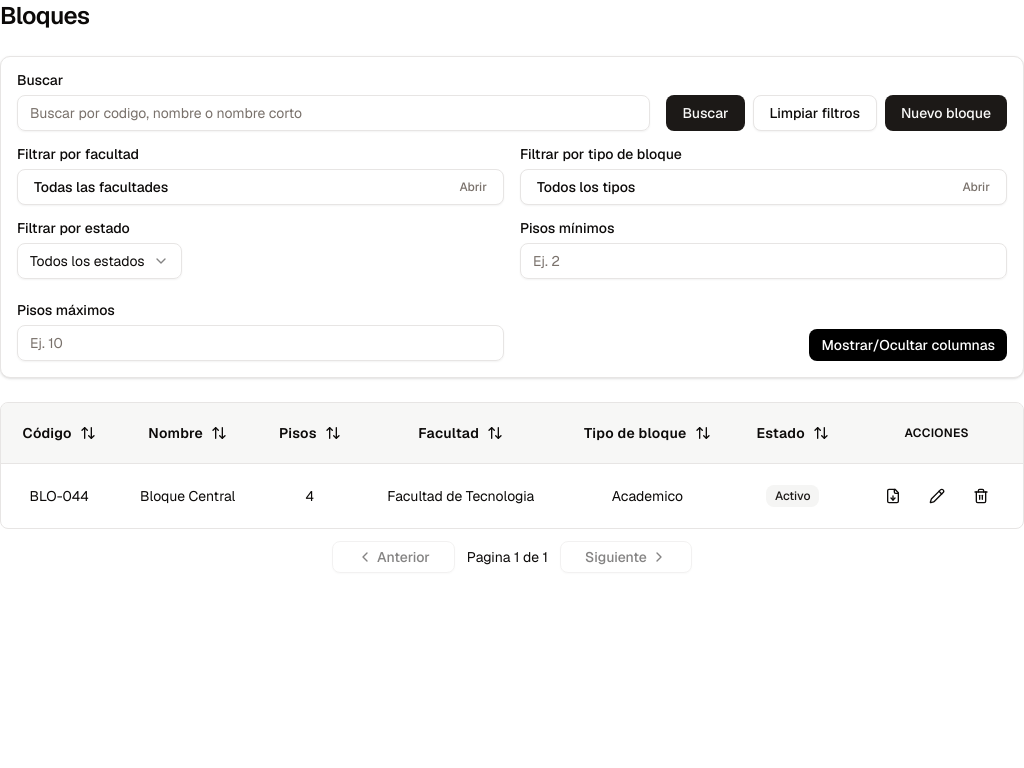
Test: BlockListPage › elimina el bloque, refresca la tabla y muestra un toast de exito
Check: the text "Bloque Central" is shown, box [133, 486, 242, 506]
Click the button titled "eliminar bloque".
click(981, 496)  # box [963, 478, 999, 514]
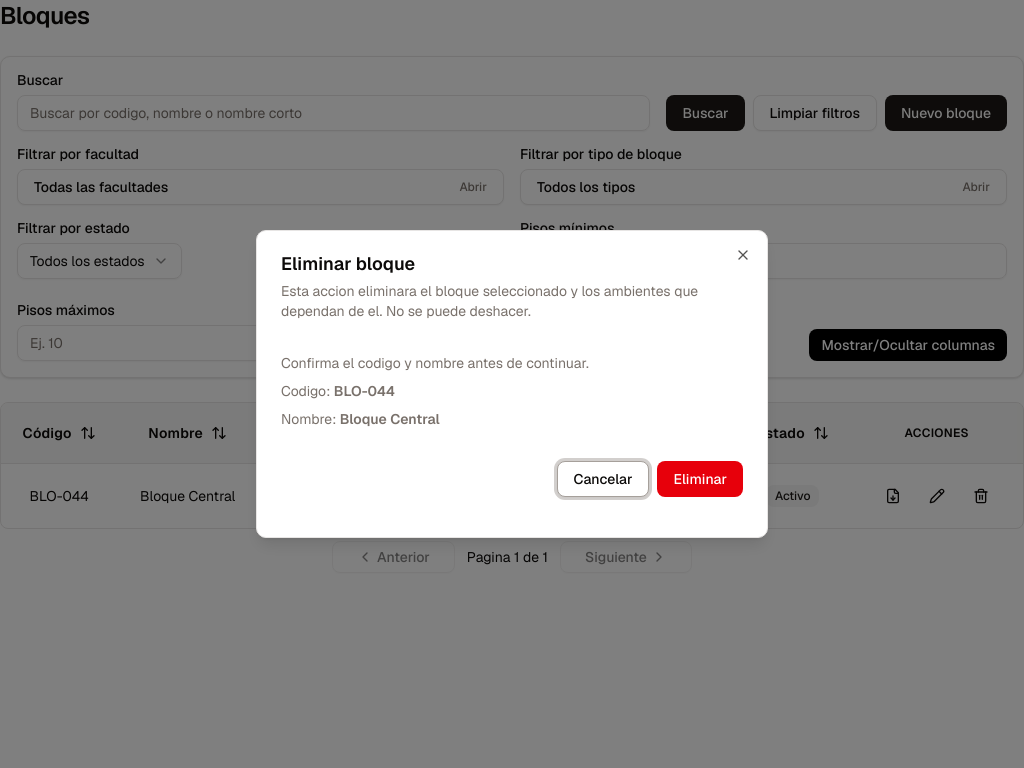
Click the button "Eliminar".
click(700, 479)  # box [658, 461, 743, 497]
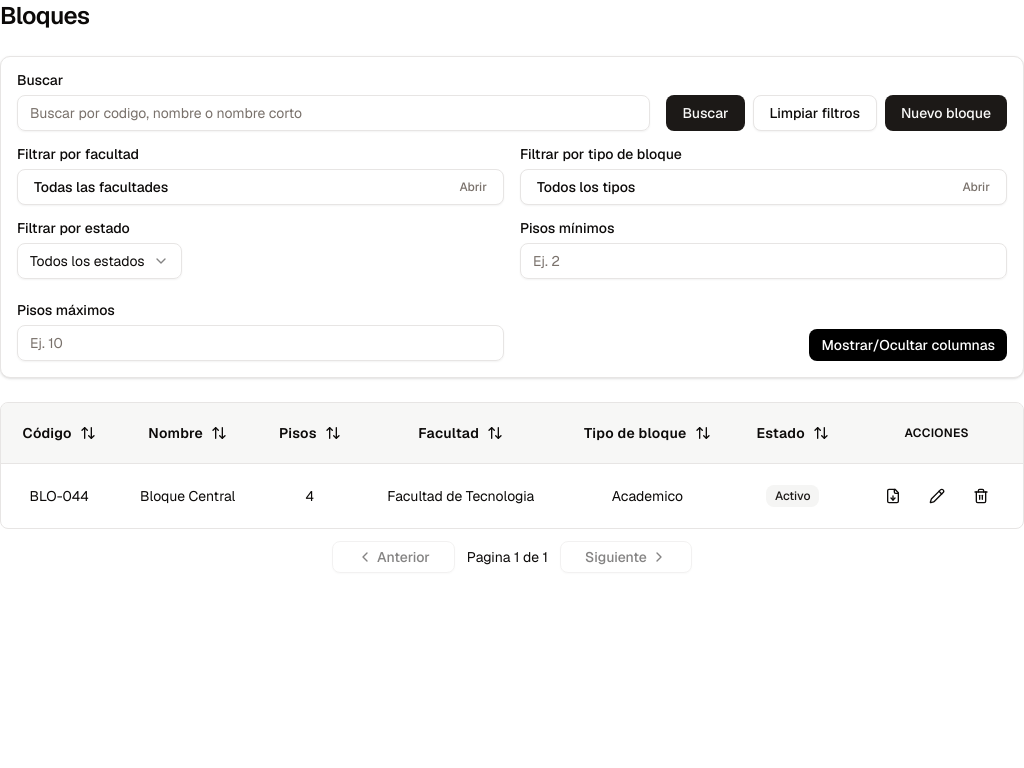
Check: the heading "Eliminar bloque" is gone
